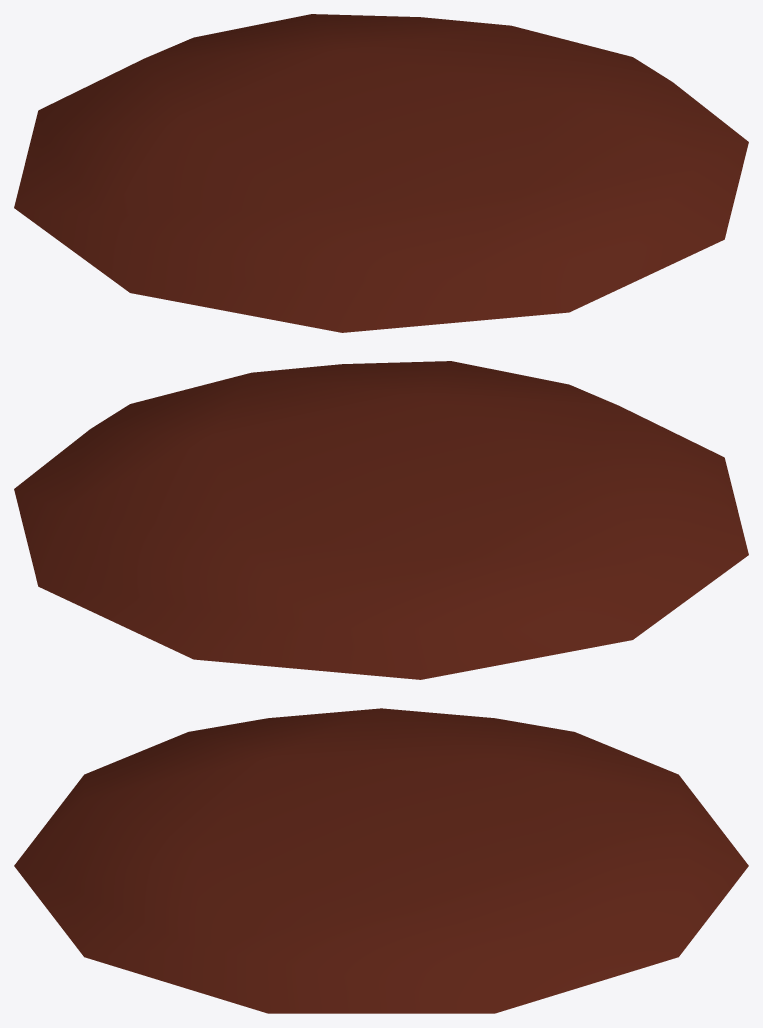
File: plot.fbx
The picture shows the model from 3 angles, top to bottom: view 1: azimuth 30°, elevation 25°; view 2: azimuth 150°, elevation 25°; view 3: azimuth 270°, elevation 25°; orthographic projection. The views are drawn at different scales.
Visible parts, largest first — view 1: plot; view 2: plot; view 3: plot.
Part boxes in pixels (x1=…): plot: x1=14, y1=14, x2=748, y2=332; plot: x1=14, y1=361, x2=748, y2=679; plot: x1=14, y1=708, x2=748, y2=1013.
Size of the model in its own units: 95.11 by 7.26 by 100.
